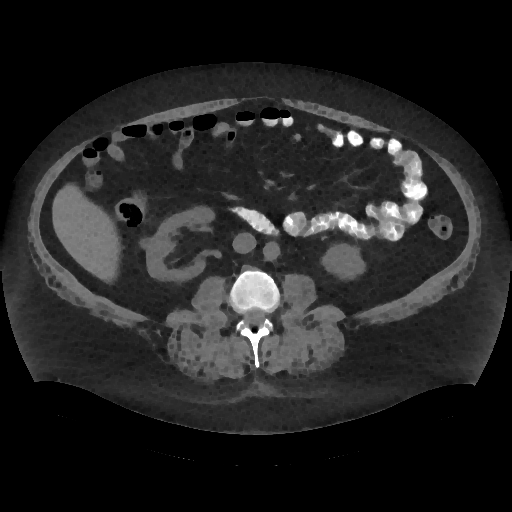Lesion: (139, 237, 156, 252)
